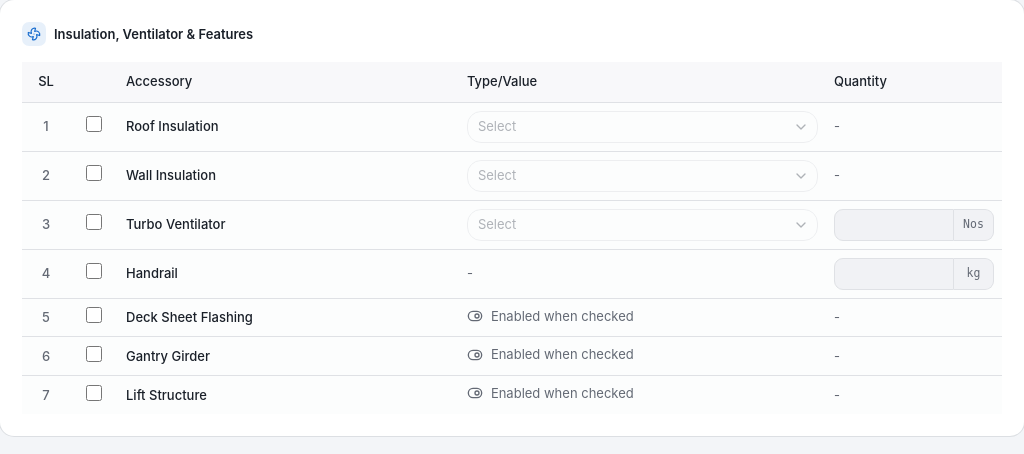
Test case: InsulationVentilatorFeatures › enables selector and quantity fields for the turbo ventilator
The width and height of the screenshot is (1024, 454).
Click the checkbox named "Include Turbo Ventilator" at point(94, 222), box [86,214,102,230]
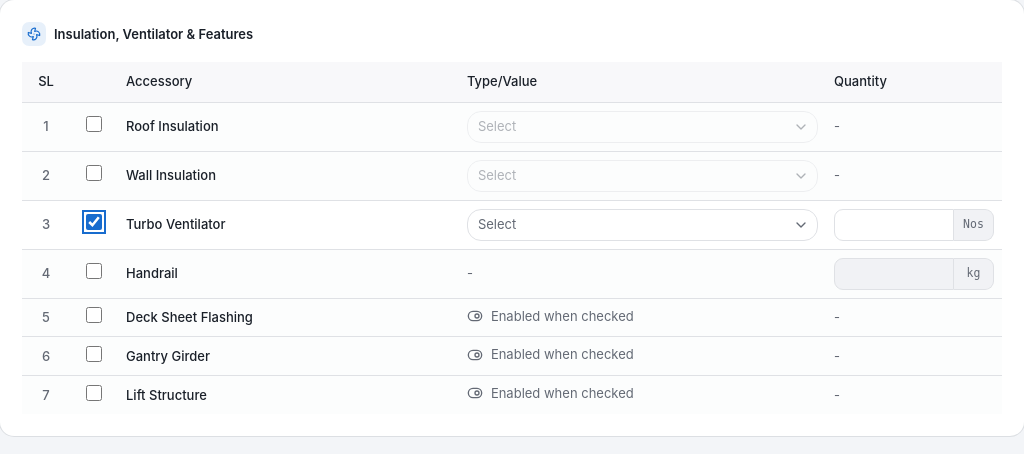
expect the dropdown named "Turbo Ventilator type" is enabled: met, box [467,208,818,240]
